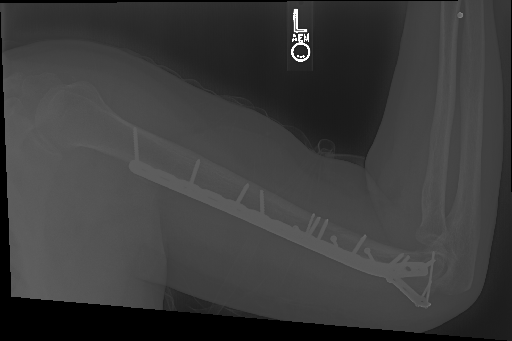implant: (303, 210, 435, 312), (127, 120, 207, 207), (227, 173, 271, 236)
